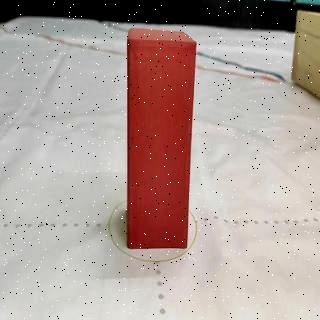redbox: (126, 27, 198, 250)
